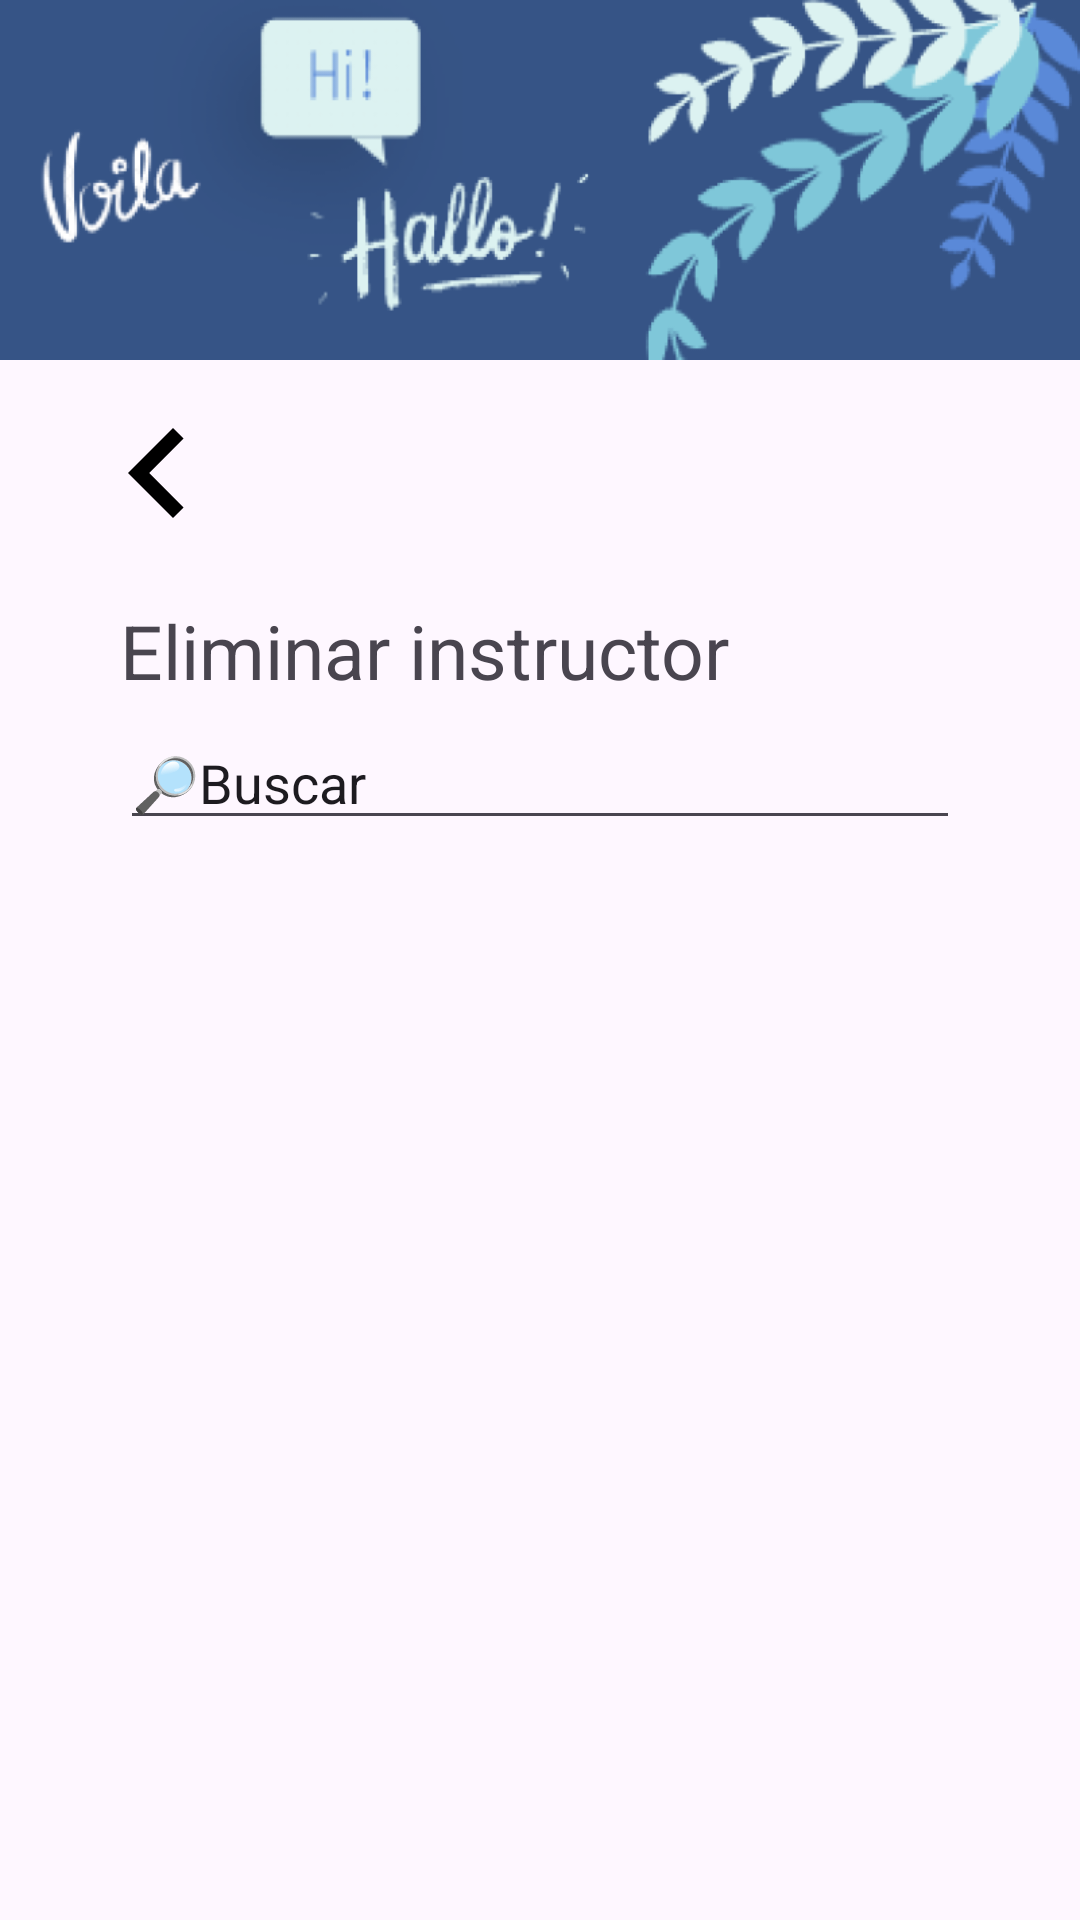

Icon click points for this 1080x1920 phone screenshot, format (x=x, y=y):
chevron left: (x=156, y=473)
